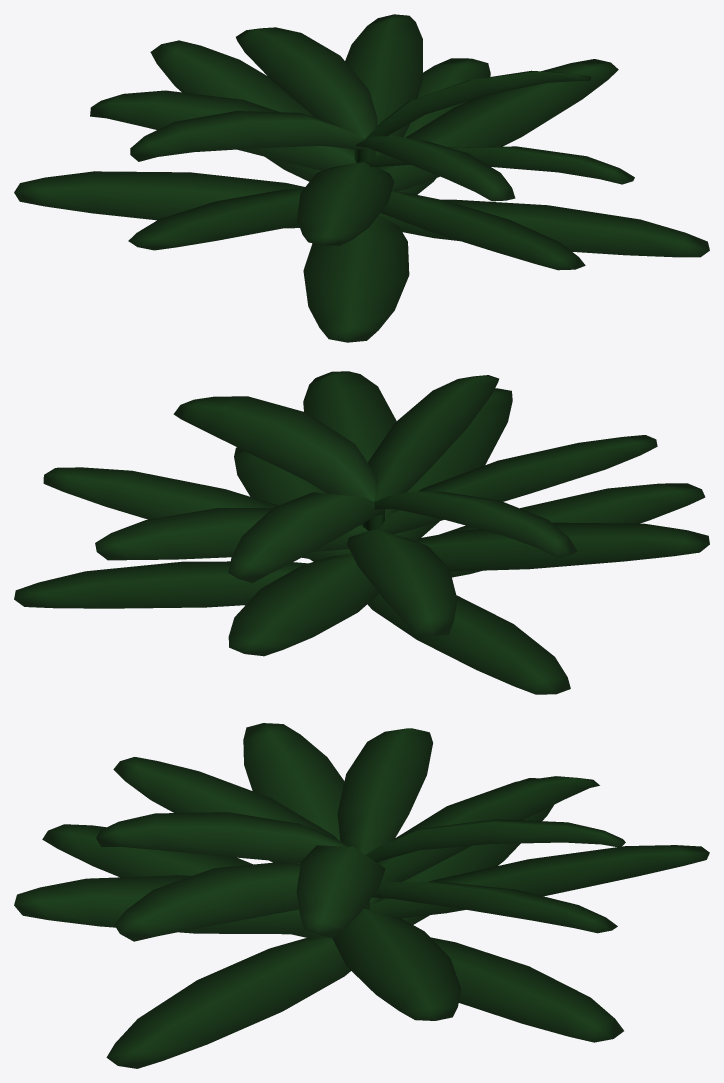
Rendered from Fern_1_v1.fbx.
3 views of the same model, one above another, from view 1: azimuth 30°, elevation 25°; view 2: azimuth 150°, elevation 25°; view 3: azimuth 270°, elevation 25° (orthographic). The views are drawn at different scales.
Parts seen in each view (by area): view 1: Fern; view 2: Fern; view 3: Fern.
Boxes of the visible parts, left/top/right/bottom form: Fern: left=14, top=14, right=709, bottom=342; Fern: left=14, top=371, right=709, bottom=694; Fern: left=14, top=723, right=709, bottom=1068.
Bounding box in the file's own units: 309 × 67.09 × 316.
